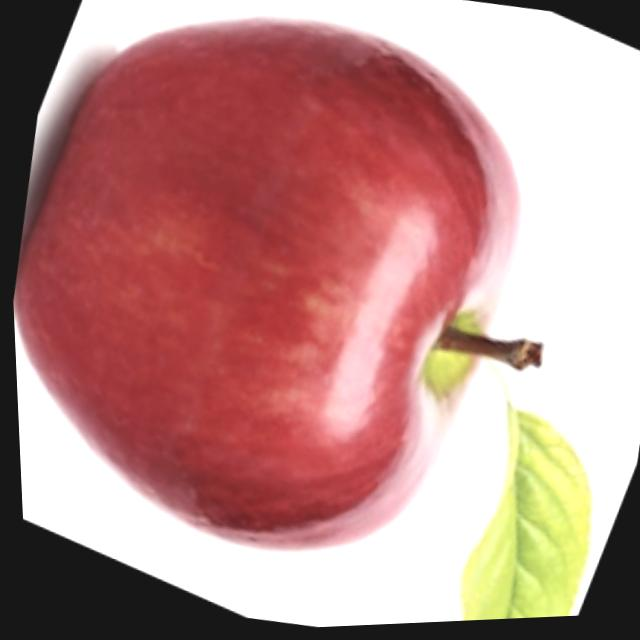organik: (0, 0, 582, 632)
